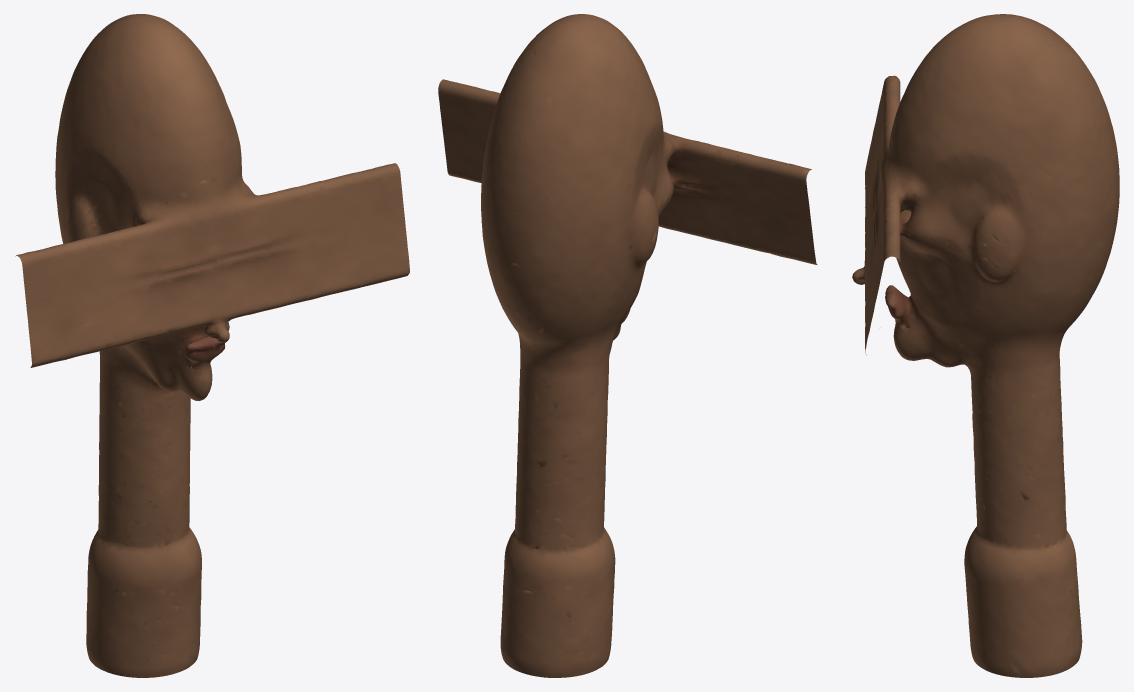
Rendered from hayalet_skin.glb.
3 renders of one model, left to right at view 1: azimuth 30°, elevation 25°; view 2: azimuth 150°, elevation 25°; view 3: azimuth 270°, elevation 25°, orthographic. The views are drawn at different scales.
Visible parts, largest first — view 1: geometry_0; view 2: geometry_0; view 3: geometry_0.
Boxes of the visible parts, <box> form: geometry_0: <box>15,14,409,677</box>; geometry_0: <box>438,14,817,677</box>; geometry_0: <box>852,14,1119,677</box>.
Bounding box in the file's own units: 0.2916 × 0.4754 × 0.1819.
